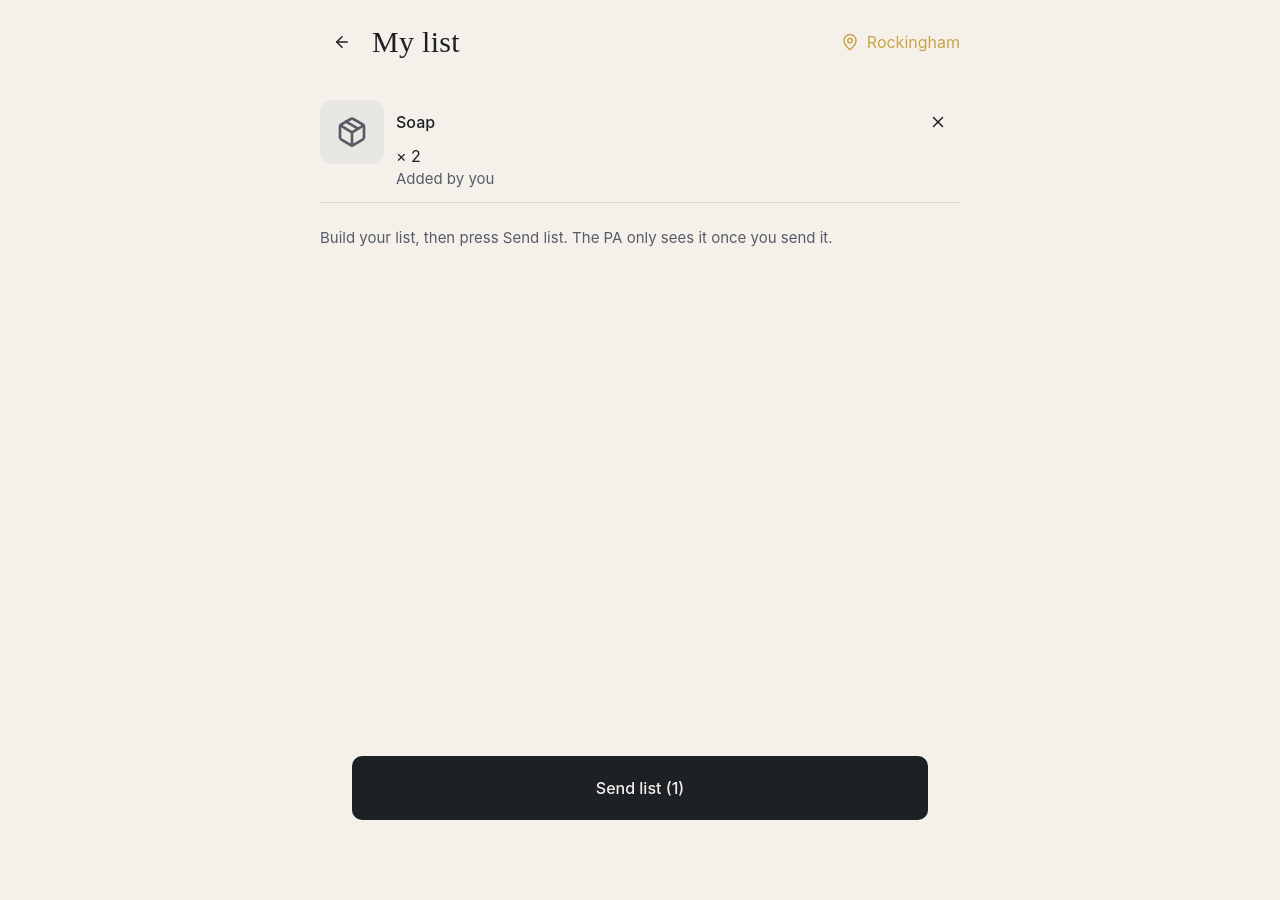
Scenario: requester screens › colleague rows remain visible, only own remove and edit are offered
This screenshot has width=1280, height=900.
Check: the button named "Remove Soap" is shown, box [916,100,960,144]
Click the button "Soap". click: (416, 122)
box: [396,100,904,144]
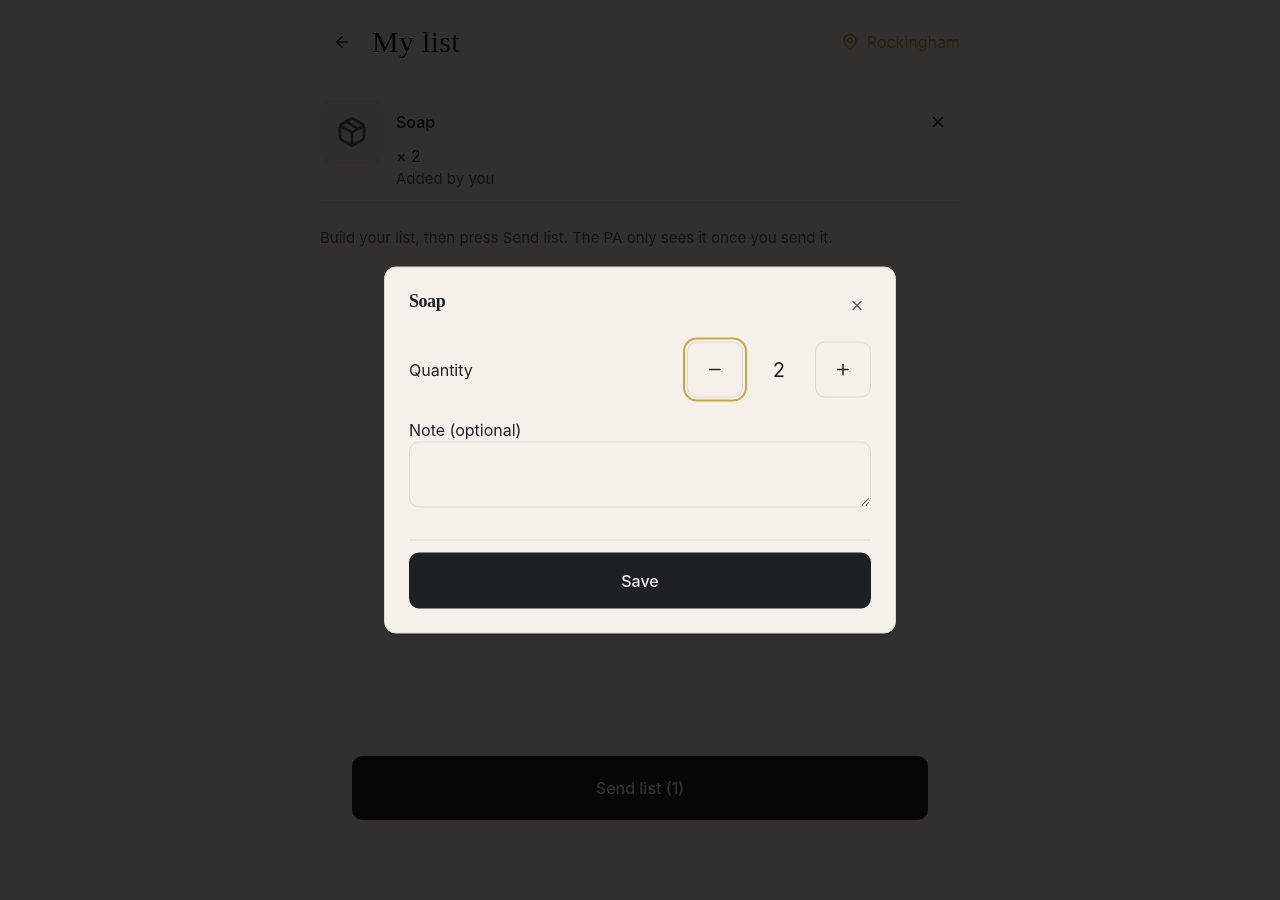
Check: the button "Save" is shown, box [409,552,871,608]
